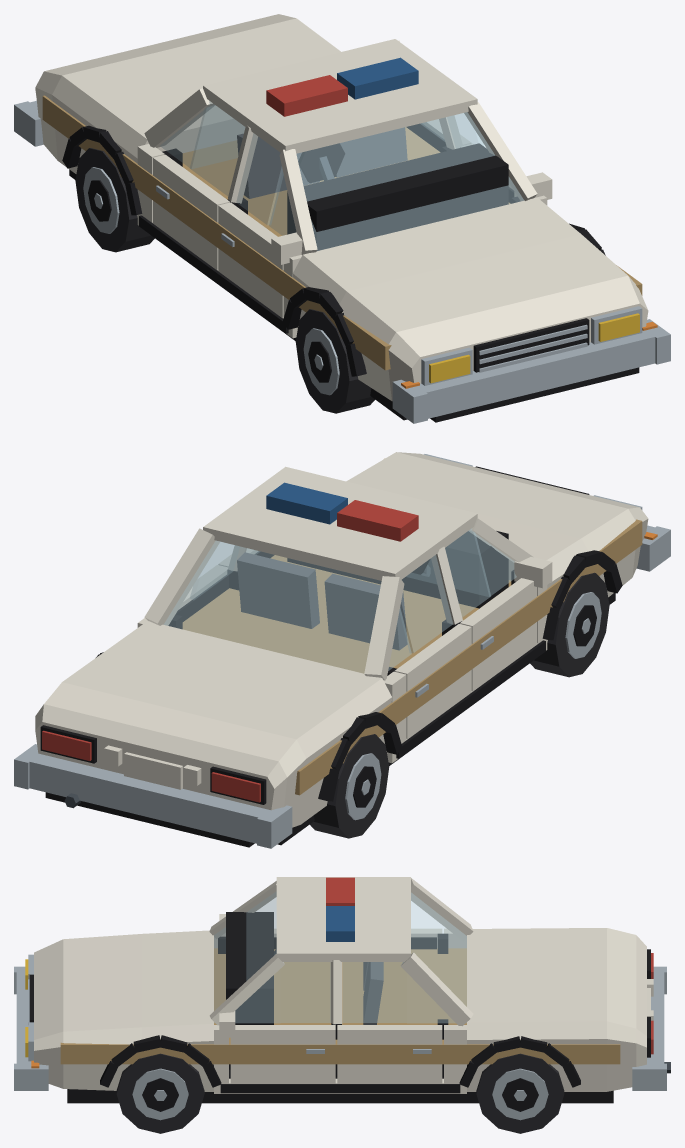
The model's file is GV_Police_Sheriff_01.glb.
3 renders of one model, top to bottom at view 1: azimuth 30°, elevation 25°; view 2: azimuth 150°, elevation 25°; view 3: azimuth 270°, elevation 25°, orthographic. The views are drawn at different scales.
Parts seen in each view (by area): view 1: GV_Police_Sheriff_01, Hood, Trunk, Door_RR, Door_FR, Wheel_FR, Wheel_RR, Door_FL, Door_RL; view 2: GV_Police_Sheriff_01, Trunk, Hood, Door_RR, Door_FR, Wheel_RR, Wheel_FR, Door_RL; view 3: GV_Police_Sheriff_01, Hood, Trunk, Door_RL, Door_FL, Wheel_FL, Wheel_RL, Door_RR.
Boxes of the visible parts, <box> form: GV_Police_Sheriff_01: <box>14,14,670,423</box>; Hood: <box>293,197,627,343</box>; Trunk: <box>52,18,340,163</box>; Door_RR: <box>153,101,245,269</box>; Door_FR: <box>218,133,302,317</box>; Wheel_FR: <box>295,309,374,413</box>; Wheel_RR: <box>75,148,154,252</box>; Door_FL: <box>447,113,552,203</box>; Door_RL: <box>406,119,471,152</box>; GV_Police_Sheriff_01: <box>14,452,670,848</box>; Trunk: <box>62,621,391,764</box>; Hood: <box>346,452,635,588</box>; Door_RR: <box>394,555,471,738</box>; Door_FR: <box>445,528,552,690</box>; Wheel_RR: <box>310,734,389,838</box>; Wheel_FR: <box>530,572,609,677</box>; Door_RL: <box>175,542,239,621</box>; GV_Police_Sheriff_01: <box>14,877,670,1103</box>; Hood: <box>63,930,213,1044</box>; Trunk: <box>467,928,606,1044</box>; Door_RL: <box>337,962,442,1083</box>; Door_FL: <box>219,962,335,1083</box>; Wheel_FL: <box>116,1053,204,1133</box>; Wheel_RL: <box>476,1053,564,1133</box>; Door_RR: <box>411,928,442,949</box>.
Size of the model in its own units: 1.92 by 1.47 by 4.93.
Materials: 2 (2 with a texture image).
